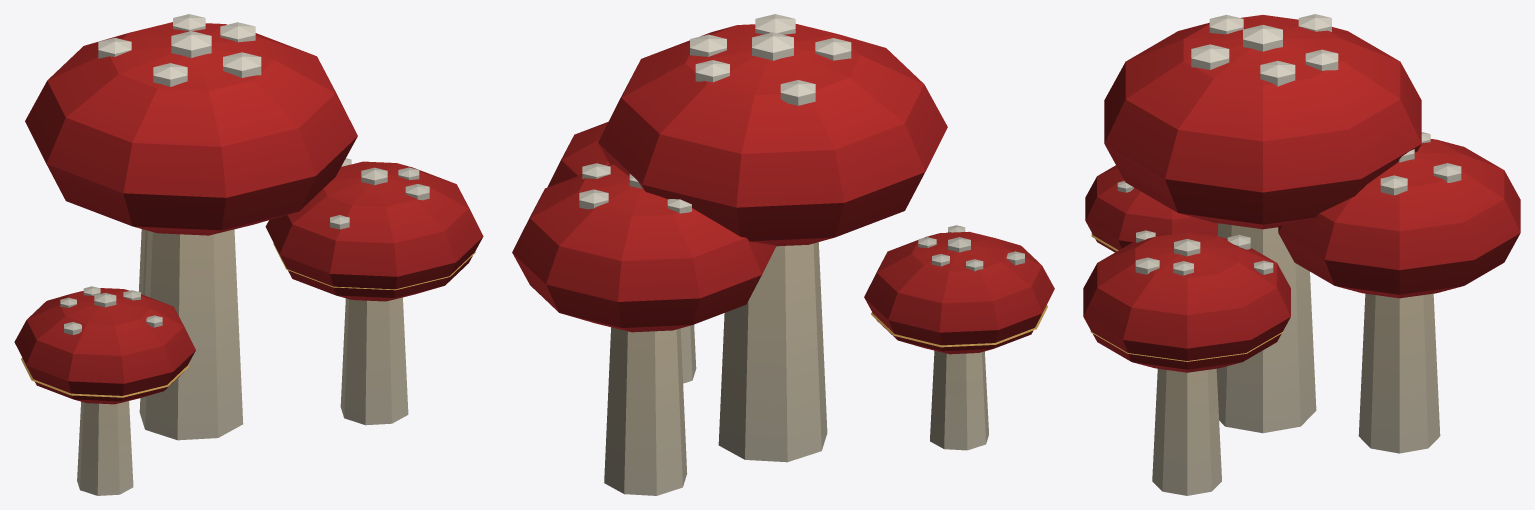
File: toadstool_cluster.glb
The picture shows the model from 3 angles, left to right: view 1: azimuth 30°, elevation 25°; view 2: azimuth 150°, elevation 25°; view 3: azimuth 270°, elevation 25°; orthographic projection. The views are drawn at different scales.
Parts seen in each view (by area): view 1: toadstool_cluster; view 2: toadstool_cluster; view 3: toadstool_cluster.
Boxes of the visible parts, x1,y1,x2,y2 form: toadstool_cluster: (14,14,483,495); toadstool_cluster: (512,14,1054,495); toadstool_cluster: (1083,14,1520,495).
Bounding box in the file's own units: 1.71 × 1.39 × 1.44.
